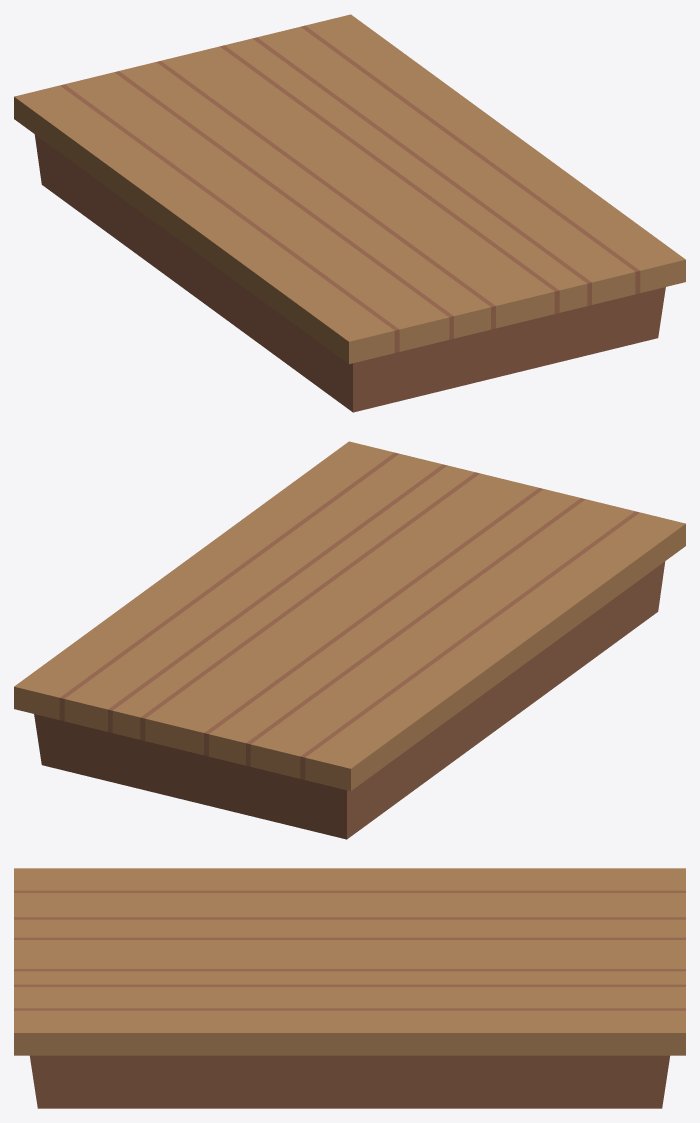
Rendered from Scene (Foundation).fbx.
3 views of the same model, one above another, from view 1: azimuth 30°, elevation 25°; view 2: azimuth 150°, elevation 25°; view 3: azimuth 270°, elevation 25° (orthographic).
Parts seen in each view (by area): view 1: Scene (Foundation); view 2: Scene (Foundation); view 3: Scene (Foundation).
Part boxes in pixels (<box>): Scene (Foundation): <box>14,14,685,412</box>; Scene (Foundation): <box>14,441,685,839</box>; Scene (Foundation): <box>14,868,685,1108</box>.
Size of the model in its own units: 666 by 157 by 1148.
